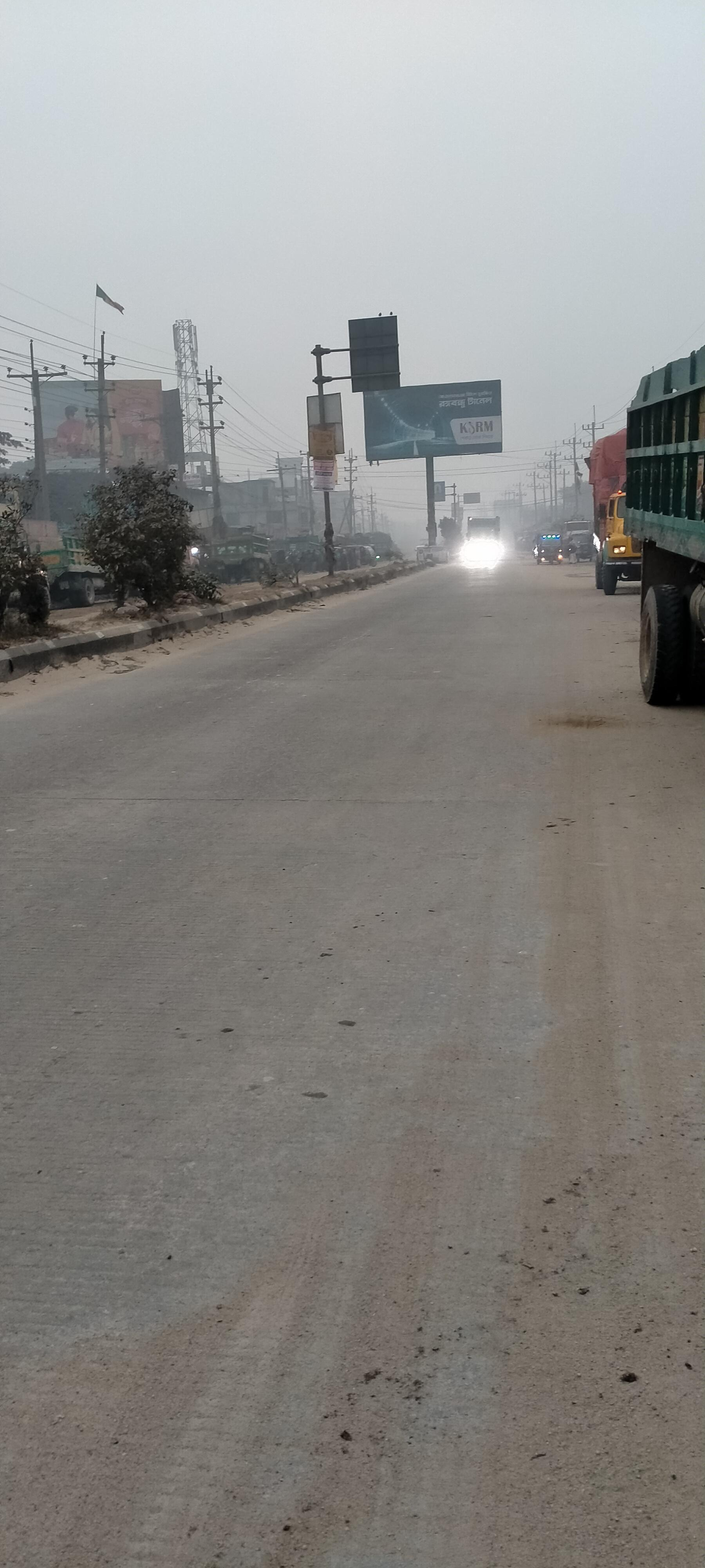Car: (522, 517, 571, 573)
Truck: (445, 495, 519, 588)
